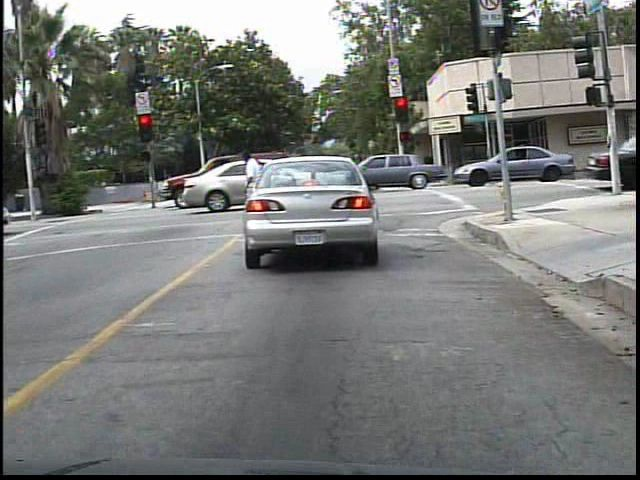person: (230, 150, 269, 230)
